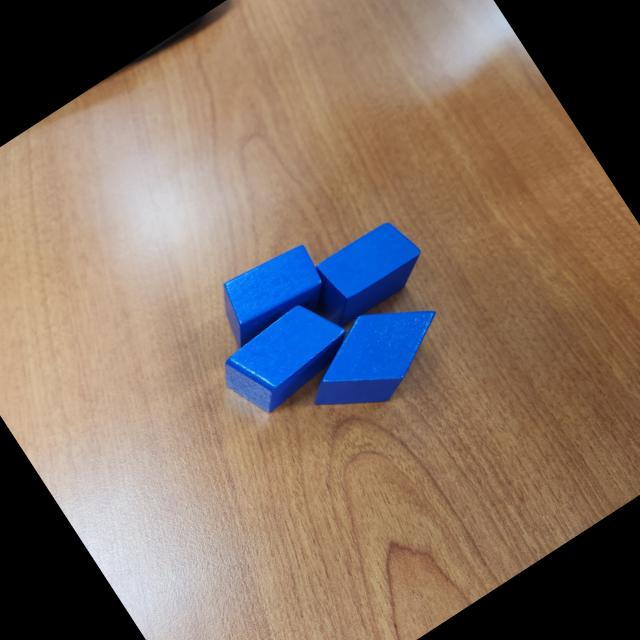blue: (288, 279, 462, 435), (210, 289, 363, 426), (292, 212, 434, 336), (204, 234, 336, 354)
